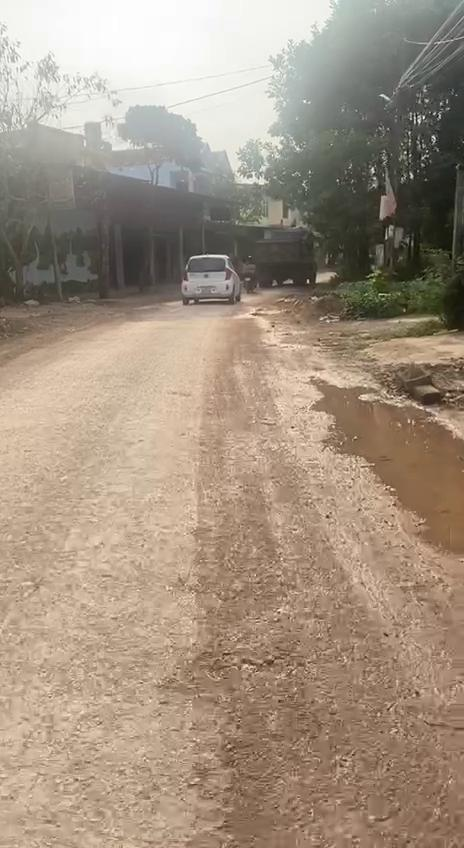pothole: (312, 375, 464, 561)
